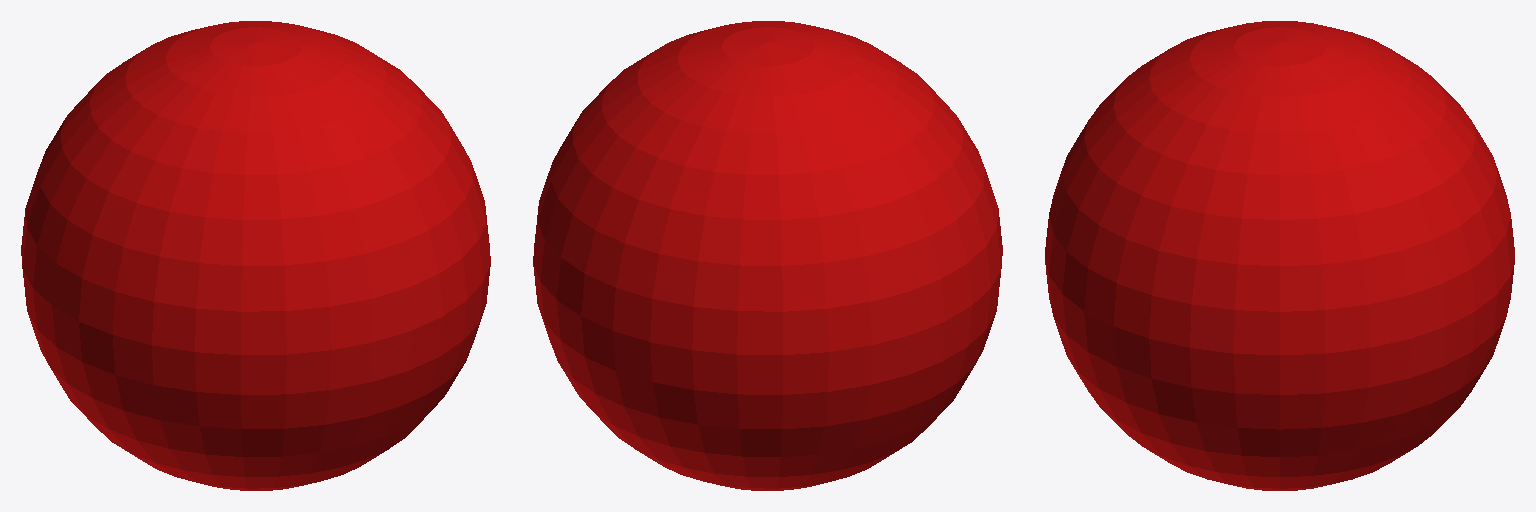
File: ball_01.obj
3 views of the same model, side by side, from view 1: azimuth 30°, elevation 25°; view 2: azimuth 150°, elevation 25°; view 3: azimuth 270°, elevation 25° (orthographic).
Visible parts, largest first — view 1: Sphere; view 2: Sphere; view 3: Sphere.
Boxes of the visible parts, x1,y1,x2,y2 form: Sphere: [21, 21, 490, 490]; Sphere: [533, 21, 1002, 490]; Sphere: [1045, 21, 1514, 490].
Bounding box in the file's own units: 2 × 2 × 2.